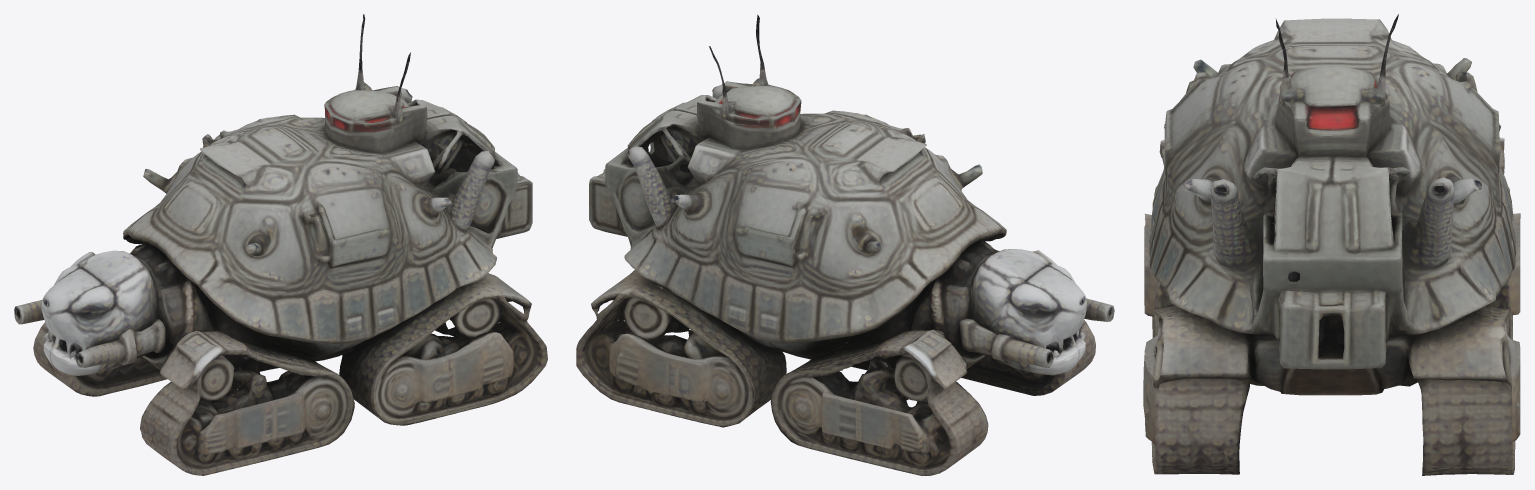
3 views of the same model, side by side, from view 1: azimuth 30°, elevation 25°; view 2: azimuth 150°, elevation 25°; view 3: azimuth 270°, elevation 25° (orthographic). The views are drawn at different scales.
Visible parts, largest first — view 1: world_0; view 2: world_0; view 3: world_0.
Boxes of the visible parts, x1,y1,x2,y2 form: world_0: (14, 14, 547, 475); world_0: (576, 14, 1114, 475); world_0: (1143, 14, 1520, 475).
Bounding box in the file's own units: 0.9997 × 0.6762 × 0.538.
1 material, 1 textured.
